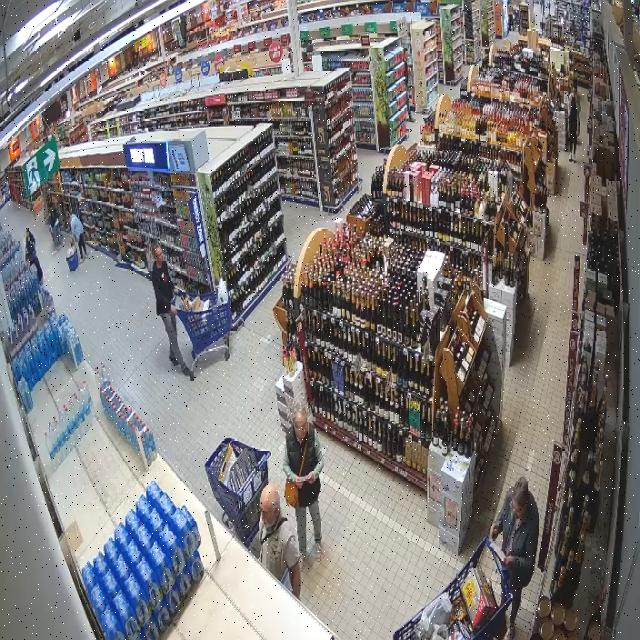bags: (299, 441, 308, 474)
hands: (490, 524, 499, 540), (504, 556, 514, 569), (306, 472, 315, 483), (295, 476, 304, 487), (170, 304, 176, 316), (174, 286, 179, 294)
person: (490, 477, 539, 639), (283, 407, 323, 568), (152, 245, 193, 380), (260, 483, 301, 598)
